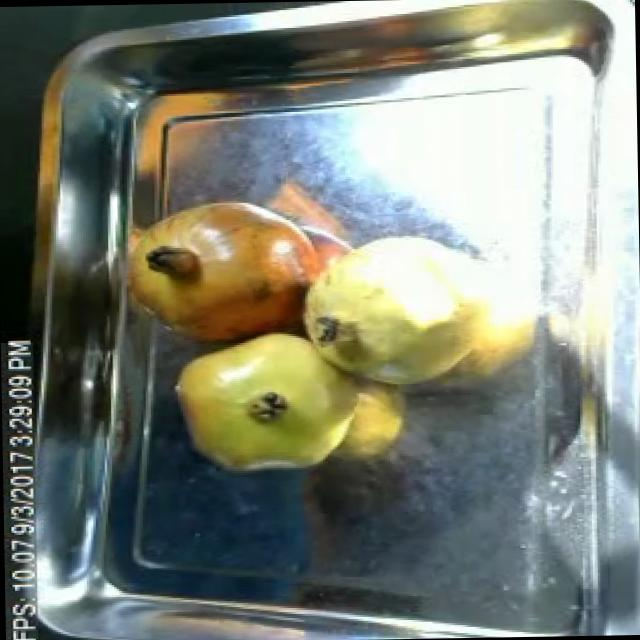fruit: (156, 325, 373, 491), (291, 224, 498, 394), (117, 192, 330, 354)
